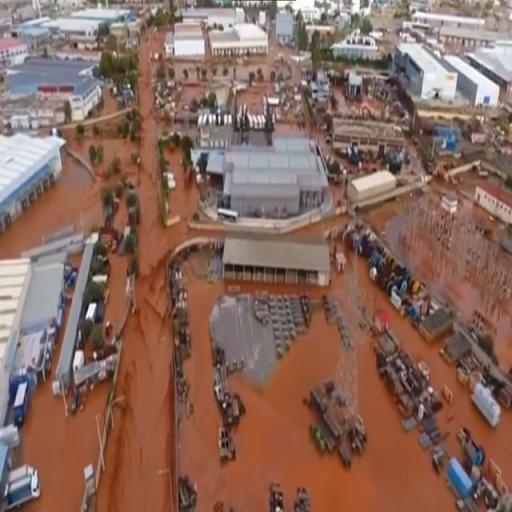flood: (0, 28, 198, 512), (179, 252, 512, 512), (366, 194, 512, 372), (333, 86, 386, 117), (270, 44, 310, 85), (178, 80, 206, 107)
house: (218, 151, 328, 230), (2, 130, 64, 248), (1, 258, 59, 384), (222, 229, 335, 291), (449, 50, 508, 116), (404, 43, 450, 103), (210, 21, 270, 63), (475, 180, 512, 242), (69, 72, 102, 126), (238, 84, 272, 134), (169, 20, 207, 62), (0, 32, 28, 75)
